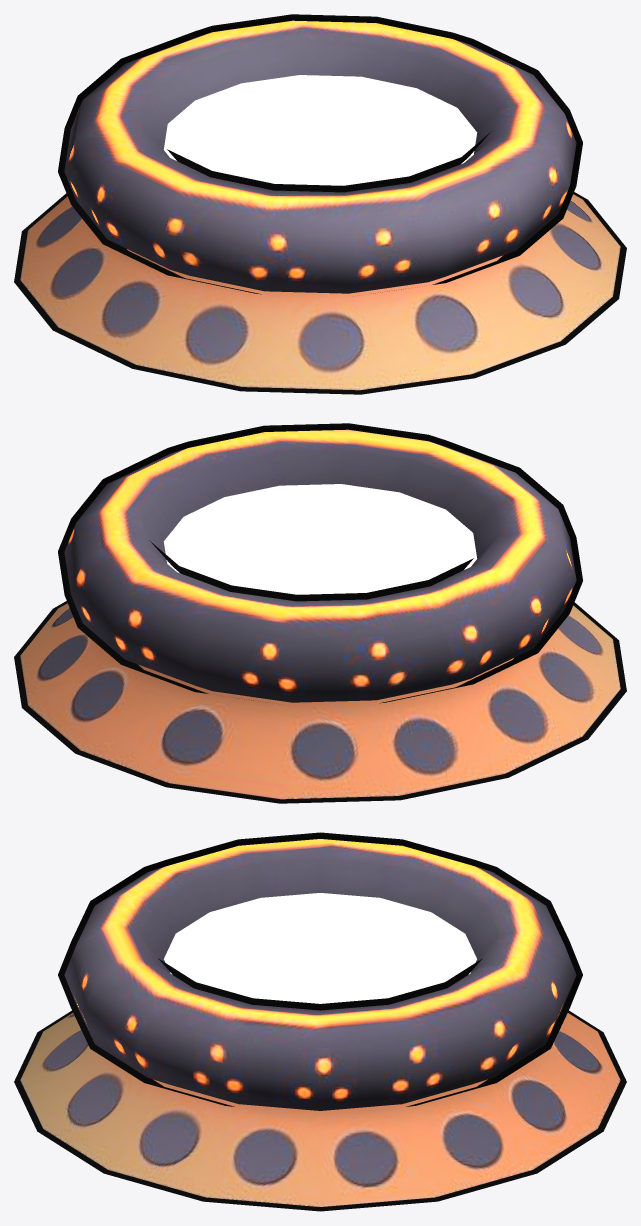
Rendered from efc7eabe-266e-4e9e-8153-65251dc70081.glb.
The picture shows the model from 3 angles, top to bottom: view 1: azimuth 30°, elevation 25°; view 2: azimuth 150°, elevation 25°; view 3: azimuth 270°, elevation 25°; orthographic projection.
Visible parts, largest first — view 1: animeAmmoBase; view 2: animeAmmoBase; view 3: animeAmmoBase.
Part boxes in pixels (box(x1,y1,x2,y2)): animeAmmoBase: box(14, 14, 626, 394); animeAmmoBase: box(14, 423, 626, 803); animeAmmoBase: box(14, 832, 626, 1211).
Size of what is drawn, in the model's own units: 0.8297 by 0.2368 by 0.8297.
Materials: 3 (1 with a texture image).
